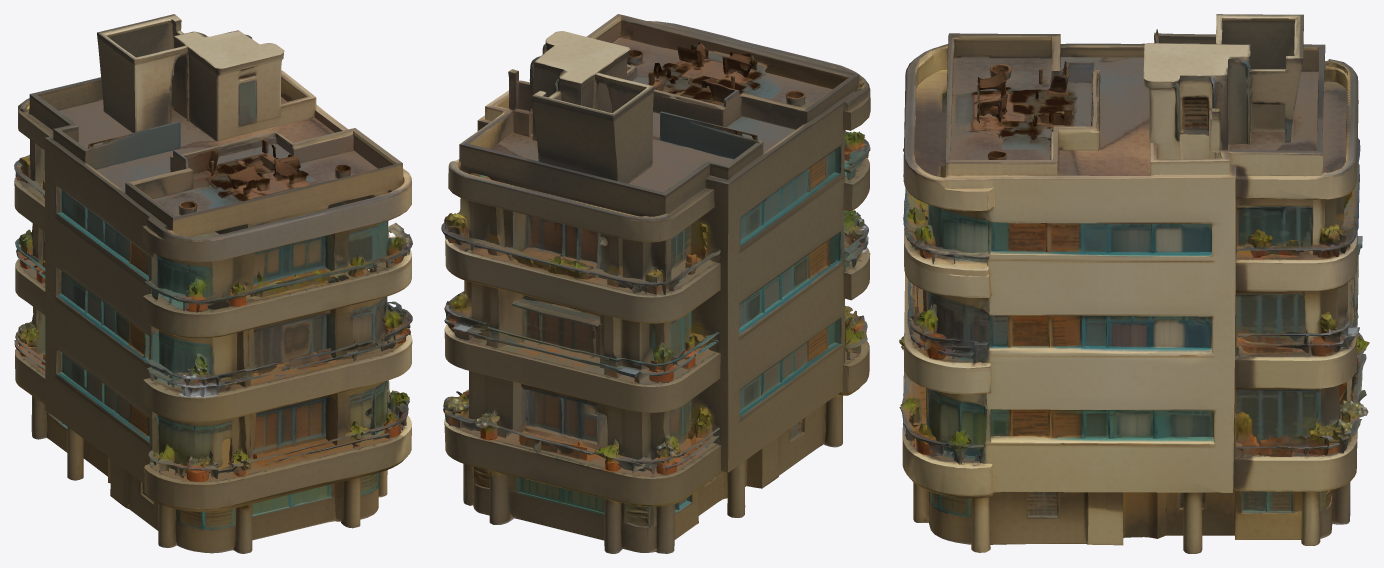
Rendered from bld_bauhaus_block.glb.
The picture shows the model from 3 angles, left to right: view 1: azimuth 30°, elevation 25°; view 2: azimuth 150°, elevation 25°; view 3: azimuth 270°, elevation 25°; orthographic projection. The views are drawn at different scales.
Parts seen in each view (by area): view 1: geometry_0; view 2: geometry_0; view 3: geometry_0.
Boxes of the visible parts, bbox=[...] form: geometry_0: bbox=[14, 14, 412, 553]; geometry_0: bbox=[441, 14, 870, 553]; geometry_0: bbox=[899, 14, 1369, 553].
Size of the model in its own units: 9.44 by 14 by 13.11.
Materials: 1 (1 with a texture image).
